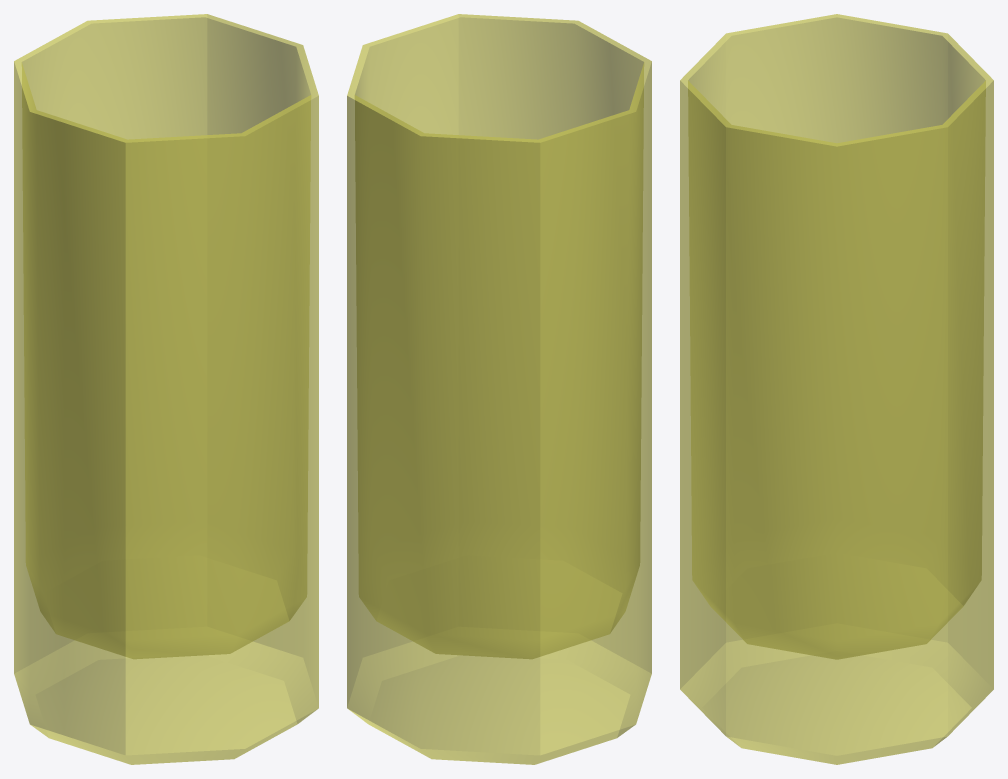
Rendered from PROP_013_Bottles_B.fbx.
3 views of the same model, side by side, from view 1: azimuth 30°, elevation 25°; view 2: azimuth 150°, elevation 25°; view 3: azimuth 270°, elevation 25° (orthographic).
Parts seen in each view (by area): view 1: Circle_002; view 2: Circle_002; view 3: Circle_002.
Boxes of the visible parts, box(x1,y1,x2,y2) form: Circle_002: box(14, 14, 318, 764); Circle_002: box(347, 14, 651, 764); Circle_002: box(680, 14, 993, 764).
Bounding box in the file's own units: 0.0651 × 0.1437 × 0.0651.
